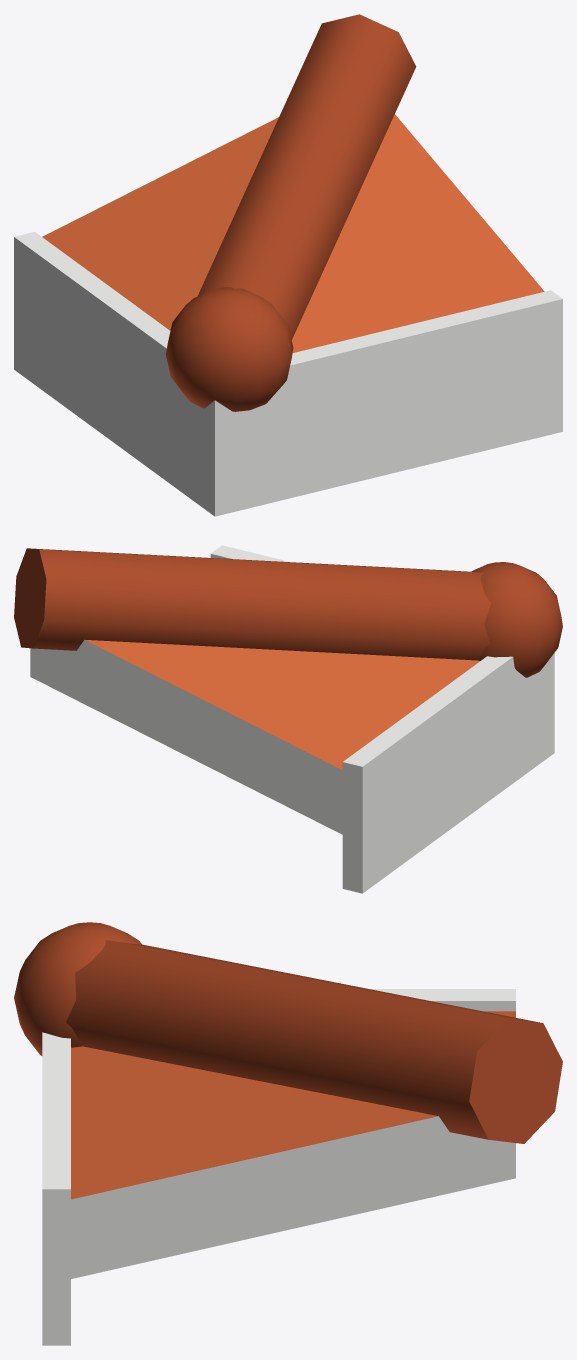
File: telhado_beiral_canto_externo_i25.glb
3 renders of one model, top to bottom at view 1: azimuth 30°, elevation 25°; view 2: azimuth 150°, elevation 25°; view 3: azimuth 270°, elevation 25°, orthographic. The views are drawn at different scales.
Parts seen in each view (by area): view 1: telhado_beiral_canto_externo_i25; view 2: telhado_beiral_canto_externo_i25; view 3: telhado_beiral_canto_externo_i25.
Boxes of the visible parts, x1,y1,x2,y2 form: telhado_beiral_canto_externo_i25: (14,14,562,516); telhado_beiral_canto_externo_i25: (14,545,562,893); telhado_beiral_canto_externo_i25: (14,922,562,1345).
Bounding box in the file's own units: 0.5795 × 0.3767 × 0.5795.
